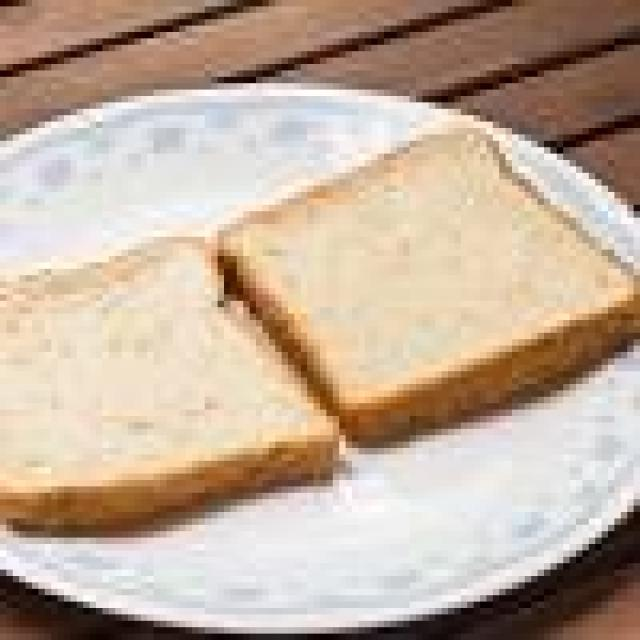Bread: (218, 116, 640, 439), (0, 239, 336, 531)
